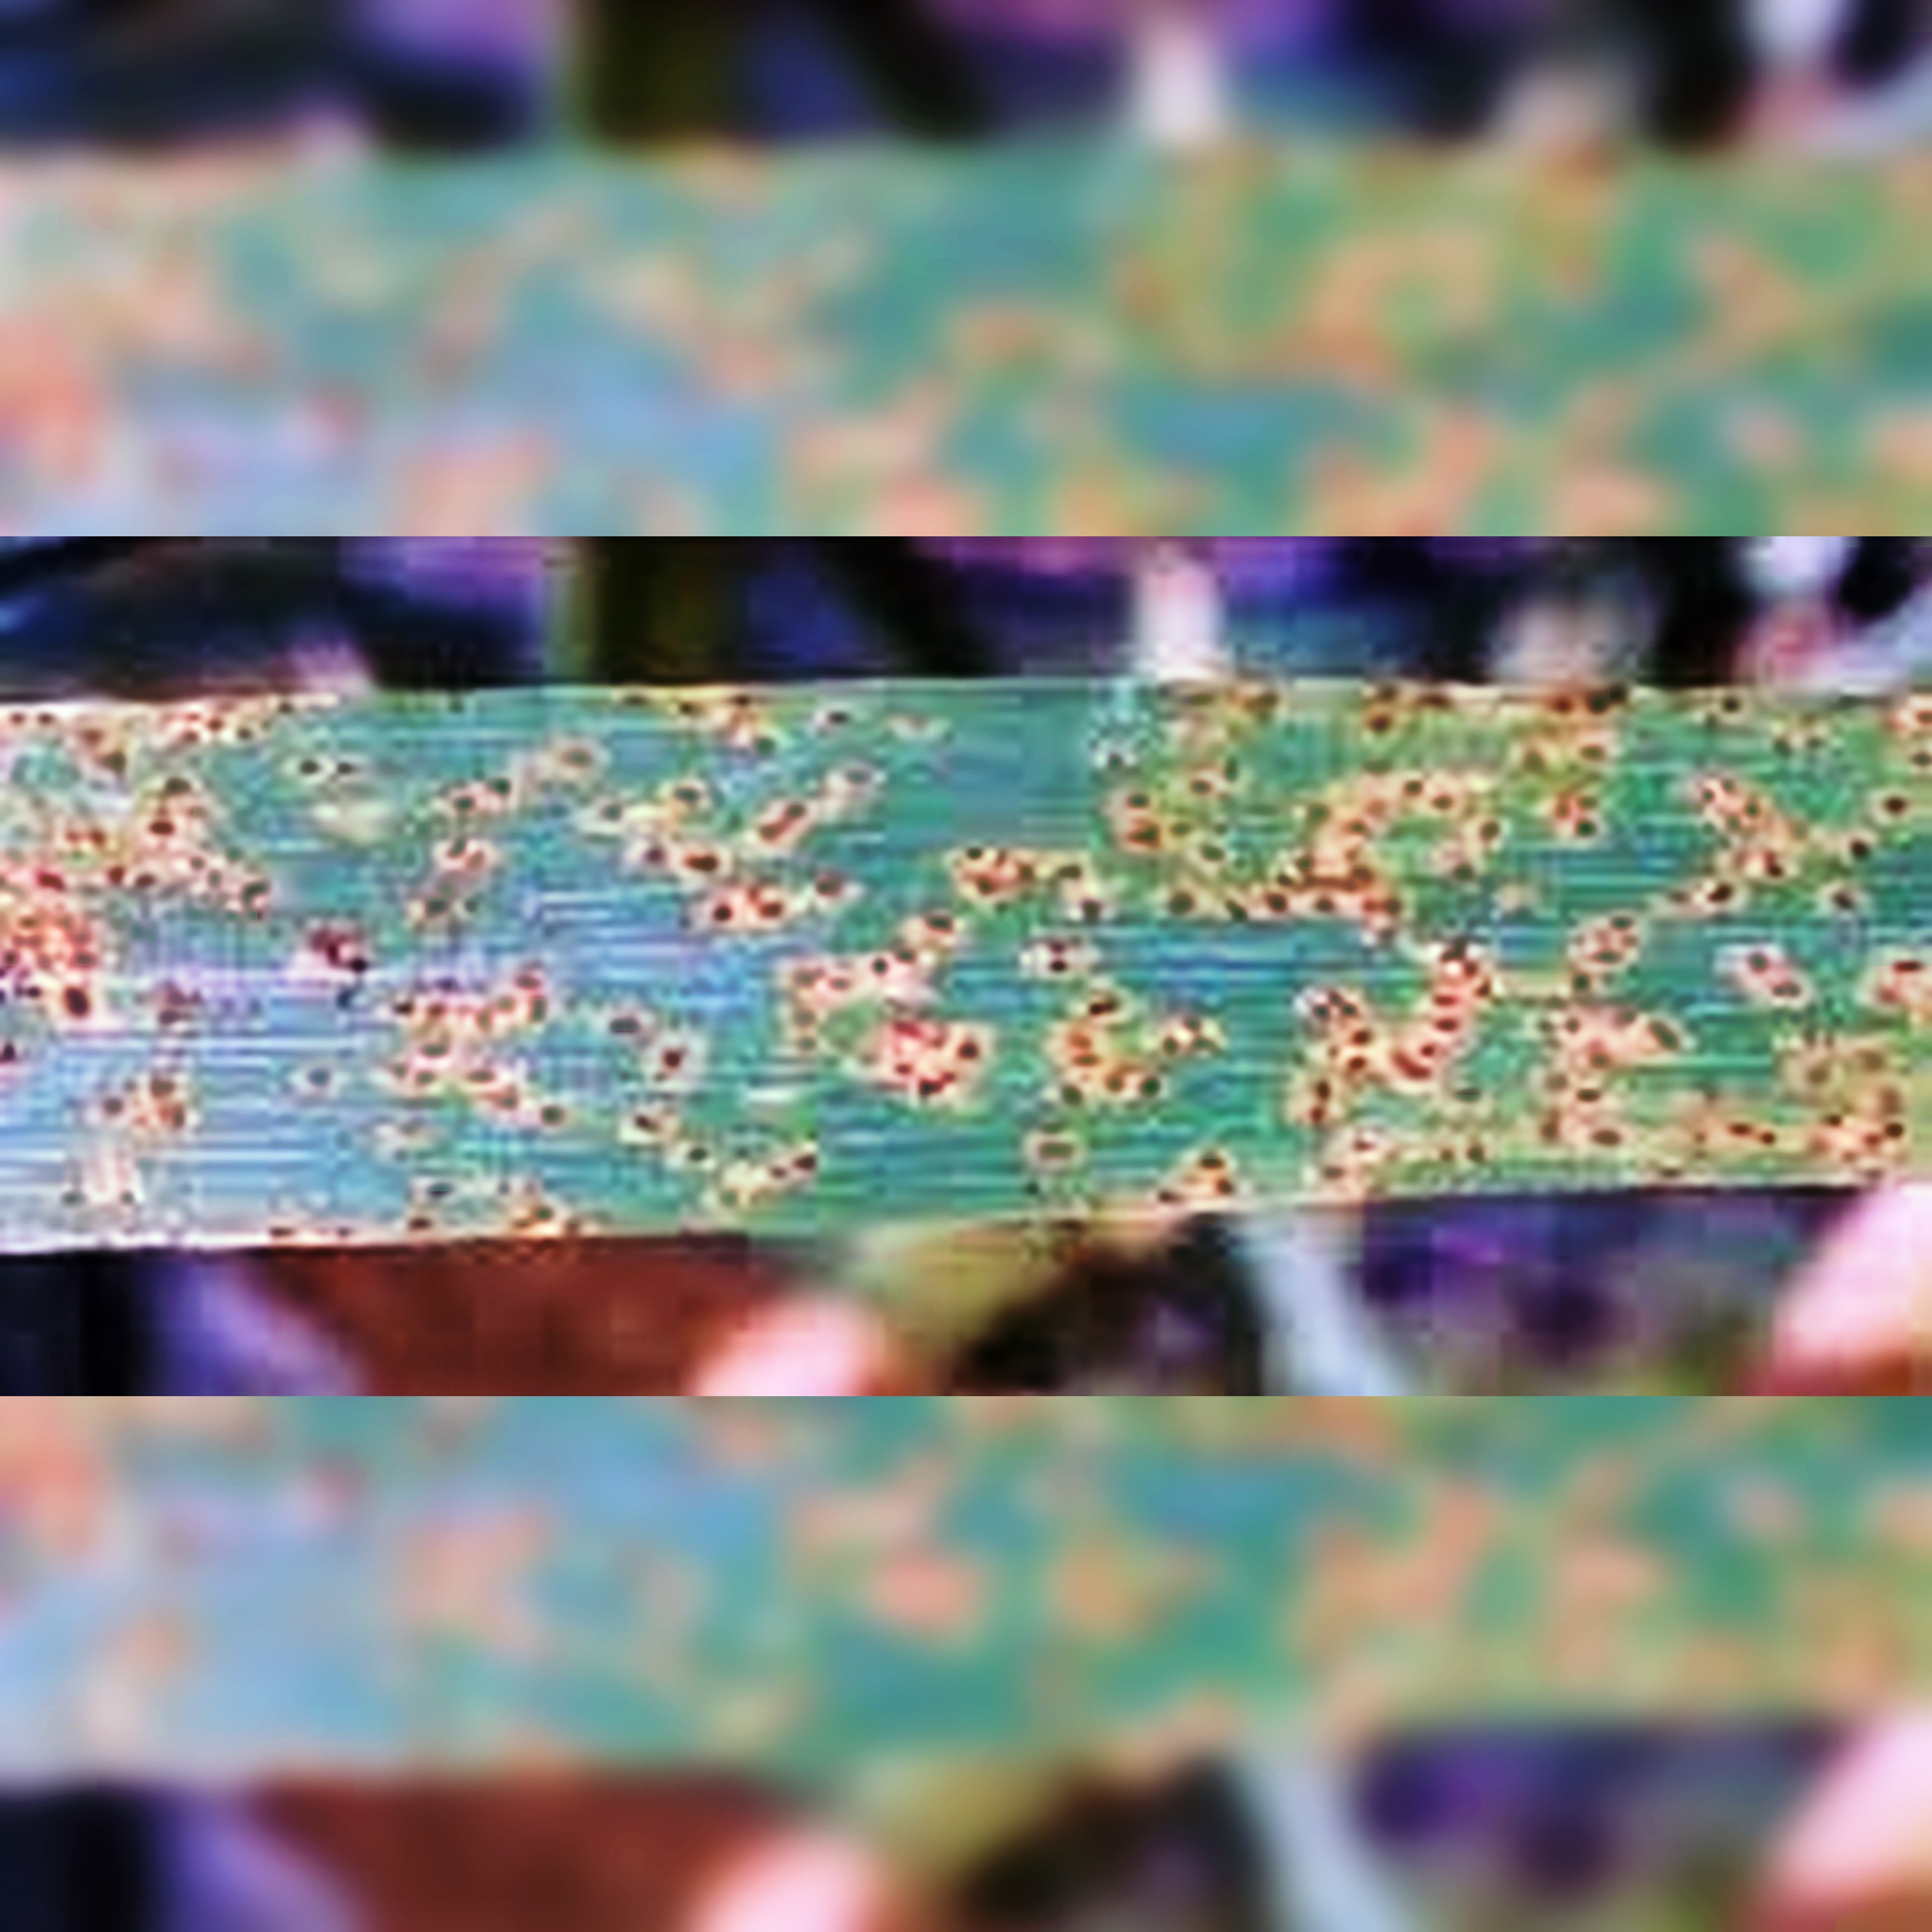Leaf Rust: (65, 695, 1891, 1242)
